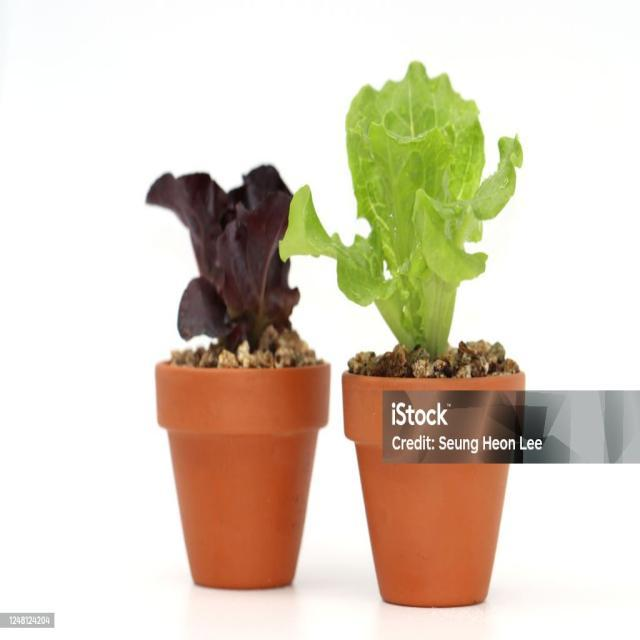Lettuce-Not-Ready-to-Harvest: (282, 68, 524, 367), (142, 151, 307, 356)
